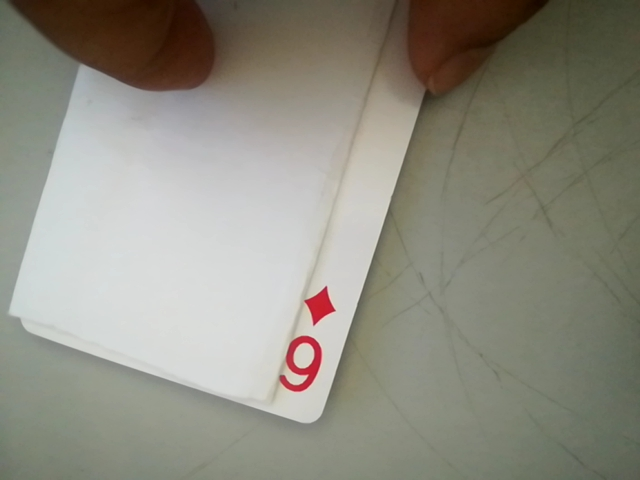fk 6: (269, 274, 346, 410)
